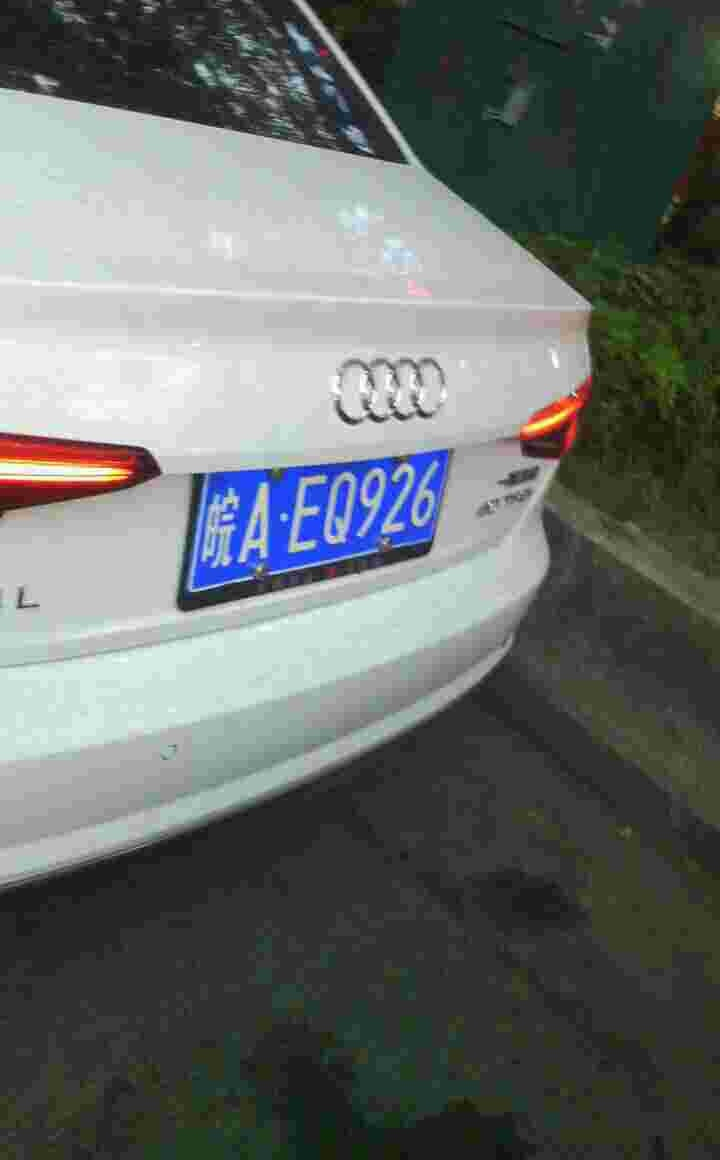license_plate: (194, 447, 458, 591)
